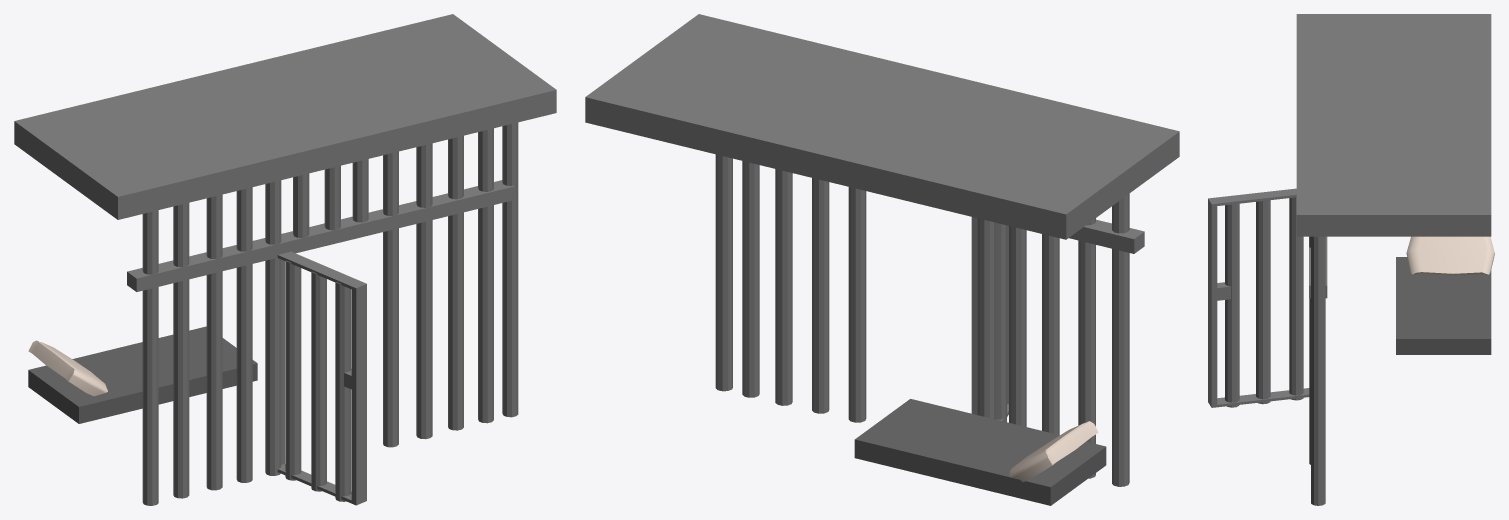
Rendered from Police Station.fbx.
The picture shows the model from 3 angles, left to right: view 1: azimuth 30°, elevation 25°; view 2: azimuth 150°, elevation 25°; view 3: azimuth 270°, elevation 25°; orthographic projection. The views are drawn at different scales.
Parts seen in each view (by area): view 1: polySurface1, polySurface2, polySurface12, pCube6, pasted__pasted__polySurface4; view 2: polySurface1, polySurface2, pCube6, polySurface12, pasted__pasted__polySurface4; view 3: polySurface1, polySurface12, pCube6, polySurface2, pasted__pasted__polySurface4.
Part boxes in pixels (left/top/right/bottom): polySurface1: left=14, top=14, right=556, bottom=219; polySurface2: left=127, top=122, right=518, bottom=505; polySurface12: left=277, top=251, right=366, bottom=505; pCube6: left=28, top=326, right=257, bottom=423; pasted__pasted__polySurface4: left=28, top=340, right=107, bottom=396; polySurface1: left=585, top=14, right=1179, bottom=239; polySurface2: left=715, top=154, right=1144, bottom=486; pCube6: left=854, top=399, right=1106, bottom=505; polySurface12: left=971, top=217, right=1008, bottom=422; pasted__pasted__polySurface4: left=1009, top=421, right=1098, bottom=482; polySurface1: left=1296, top=14, right=1491, bottom=236; polySurface12: left=1208, top=188, right=1309, bottom=407; pCube6: left=1396, top=257, right=1491, bottom=354; polySurface2: left=1309, top=236, right=1327, bottom=505; pasted__pasted__polySurface4: left=1406, top=236, right=1494, bottom=275.
Bounding box in the file's own units: 8.99 × 6.34 × 5.43.
